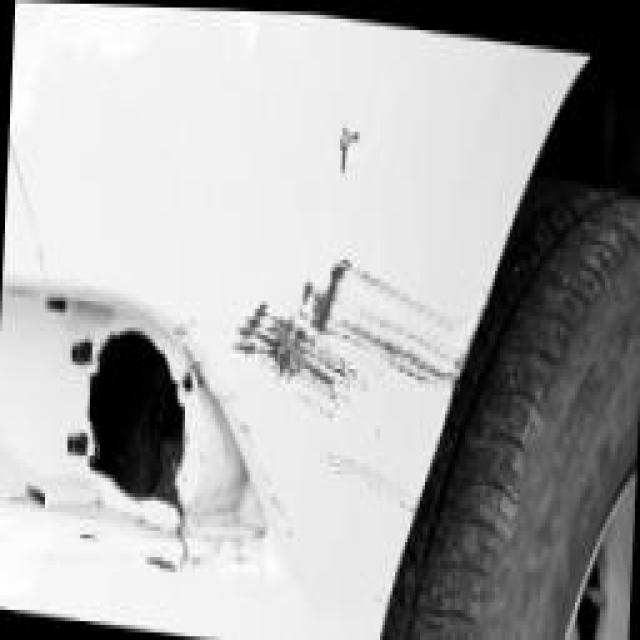Bumper: (0, 0, 452, 640)
